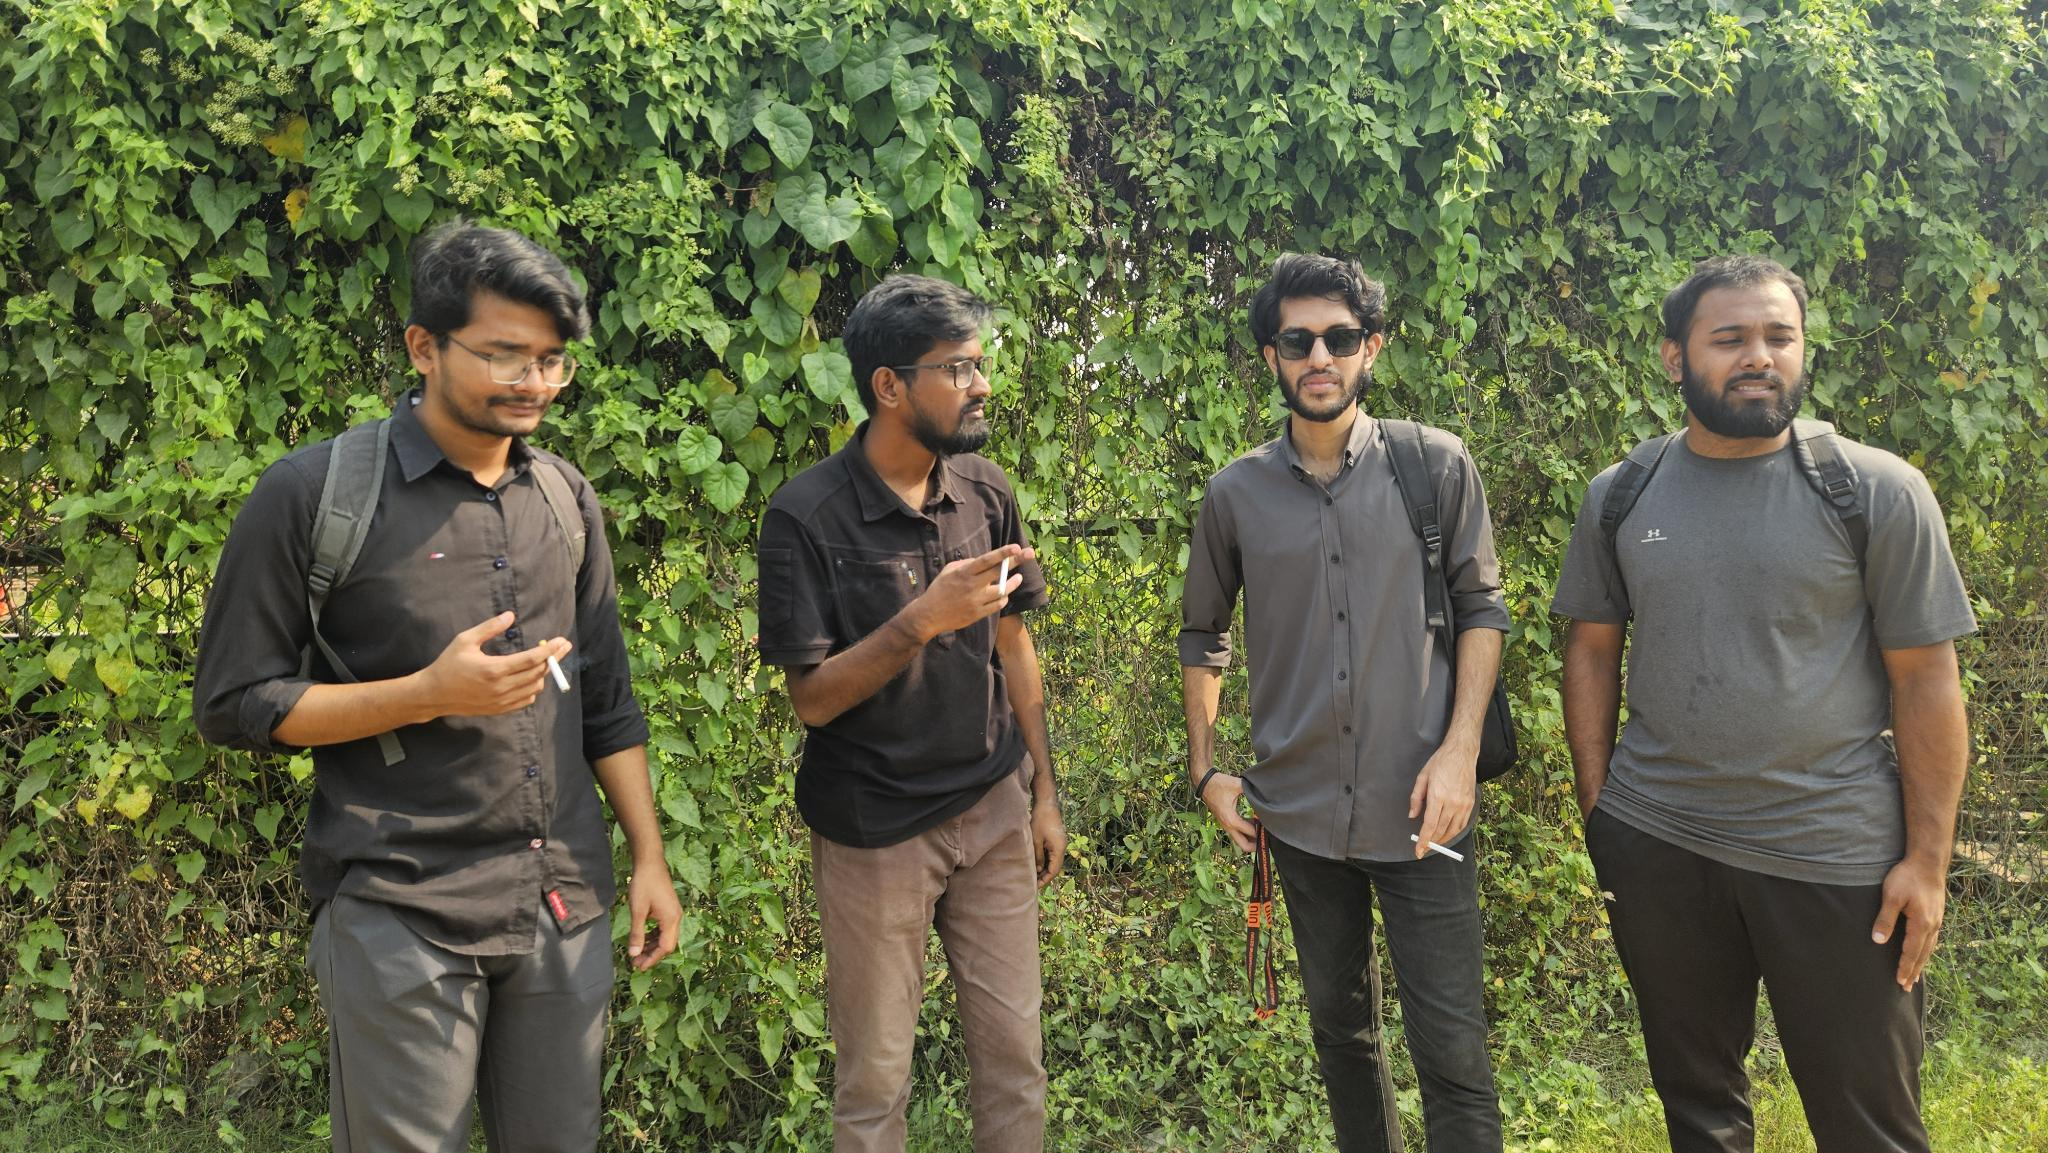cigarette: (1409, 832, 1466, 863), (544, 654, 572, 696), (996, 554, 1011, 598)
nonSmoker: (1550, 257, 1979, 1153)
smoker: (191, 226, 684, 1153), (1176, 253, 1521, 1153), (758, 274, 1069, 1153)
